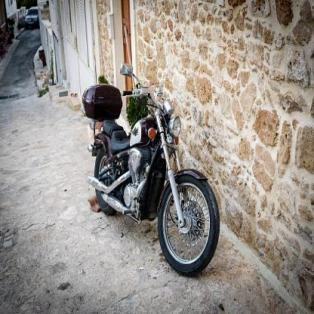Motocicleta: (80, 61, 223, 280)
